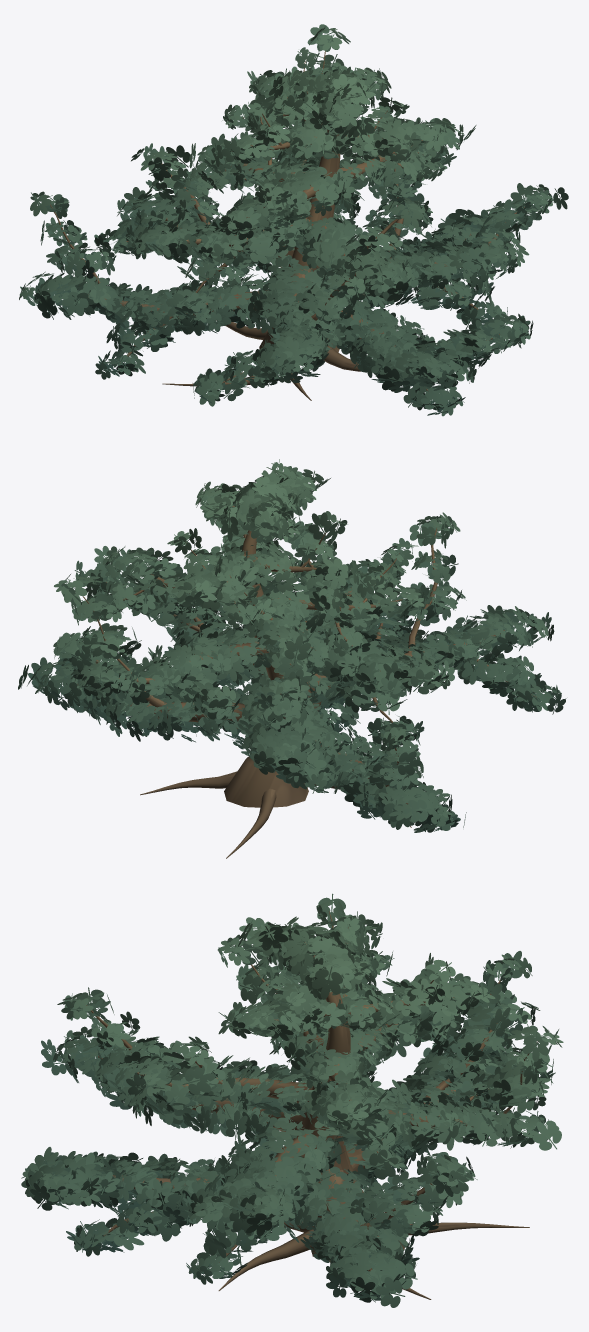
Rendered from tree.gltf.
The picture shows the model from 3 angles, top to bottom: view 1: azimuth 30°, elevation 25°; view 2: azimuth 150°, elevation 25°; view 3: azimuth 270°, elevation 25°; orthographic projection. The views are drawn at different scales.
Visible parts, largest first — view 1: Tree_LOD0; view 2: Tree_LOD0; view 3: Tree_LOD0.
Part boxes in pixels (box(x1,y1,x2,y2)): Tree_LOD0: box(19, 24, 568, 416); Tree_LOD0: box(18, 459, 566, 858); Tree_LOD0: box(21, 893, 563, 1307).
Bounding box in the file's own units: 12.38 × 7.59 × 11.01.
2 materials, 2 textured.
